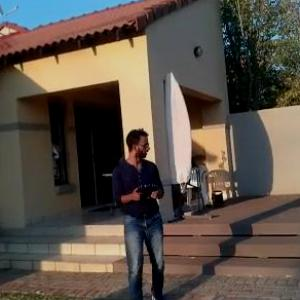follow: (110, 125, 177, 299)
